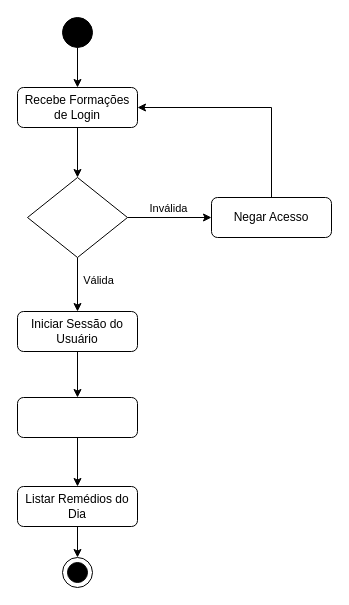
The diagram is 349 pixels wide and 605 high, and some of its shapes have lost their labels. The box of each missing label's shape, as (x1, y1, x2, y2) in pixels:
Autenticação: (26, 176, 128, 258)
Redirecionar Página Inicial: (16, 396, 138, 438)
